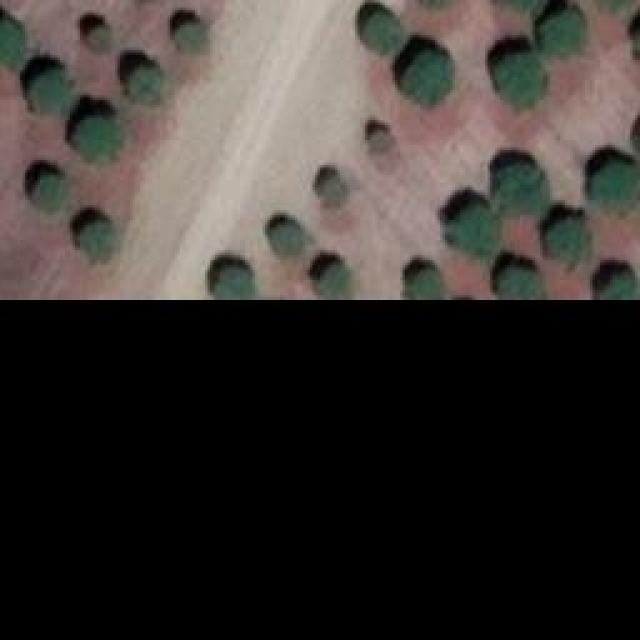Tree: (400, 43, 448, 106), (495, 47, 543, 105), (498, 163, 548, 213), (540, 8, 585, 61), (593, 163, 636, 216), (75, 115, 123, 158), (453, 203, 493, 253), (363, 10, 406, 55), (308, 250, 351, 295), (490, 260, 545, 295), (550, 218, 588, 263), (208, 260, 253, 298), (587, 265, 635, 300), (30, 65, 68, 108), (400, 257, 440, 295), (35, 175, 73, 213), (75, 220, 113, 258), (128, 62, 163, 100), (270, 223, 303, 258), (83, 20, 116, 53), (178, 23, 208, 56), (318, 175, 351, 205), (373, 130, 396, 165), (0, 20, 20, 58)
